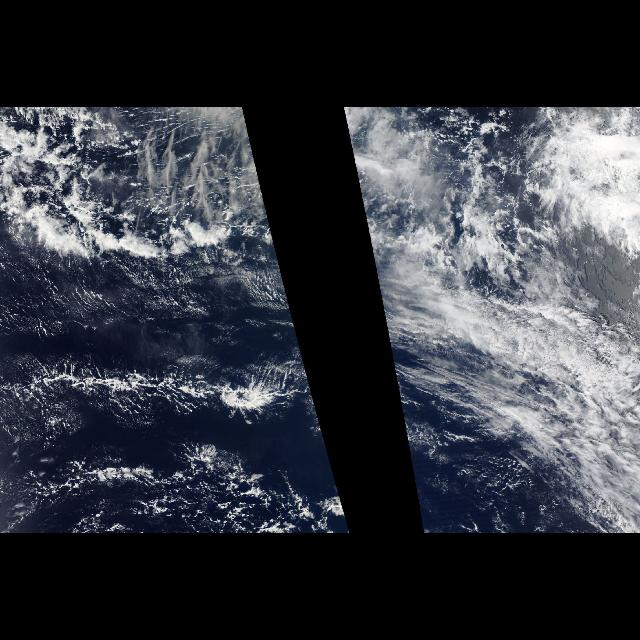Fish: (7, 282, 343, 532)
